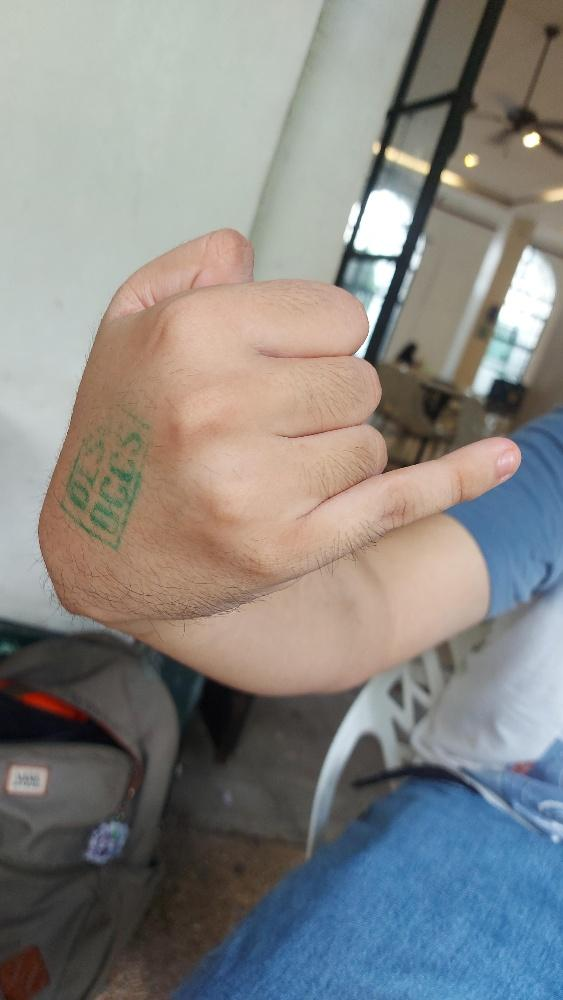j: (36, 226, 521, 621)
